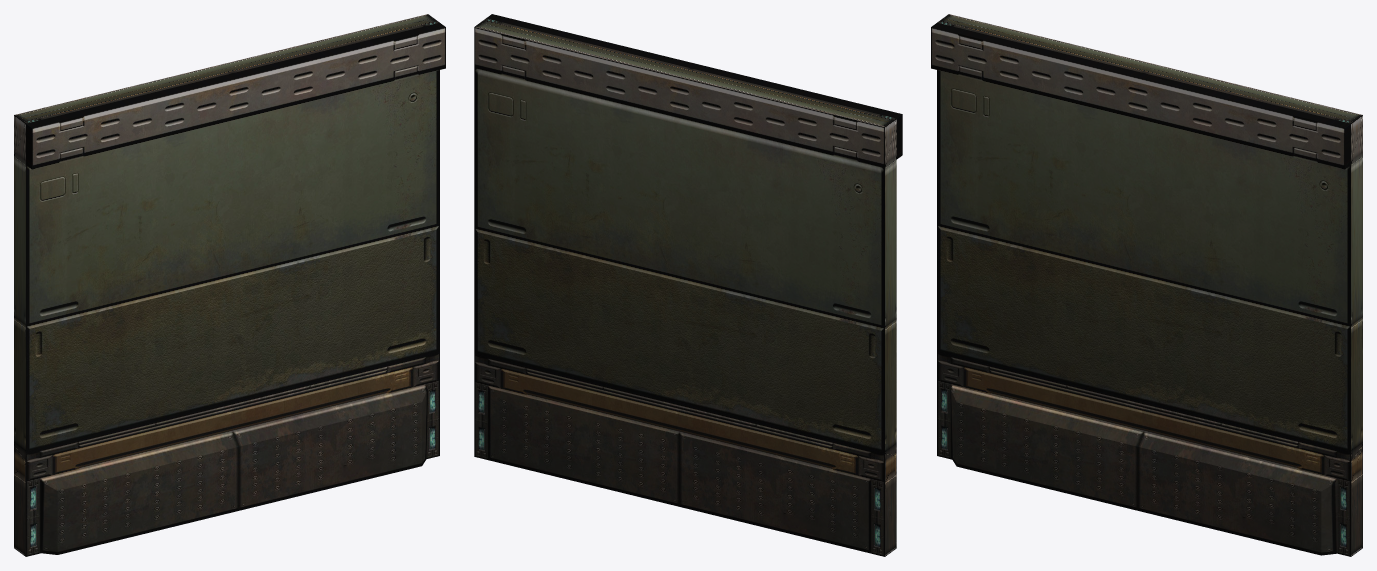
The model's file is Wall_Test.FBX.
3 views of the same model, side by side, from view 1: azimuth 30°, elevation 25°; view 2: azimuth 150°, elevation 25°; view 3: azimuth 330°, elevation 25° (orthographic).
Visible parts, largest first — view 1: Box001; view 2: Box001; view 3: Box001.
Boxes of the visible parts, x1,y1,x2,y2 form: Box001: (14, 14, 445, 556); Box001: (474, 14, 902, 556); Box001: (931, 14, 1362, 556).
Size of the model in its own units: 400 by 30 by 400.
